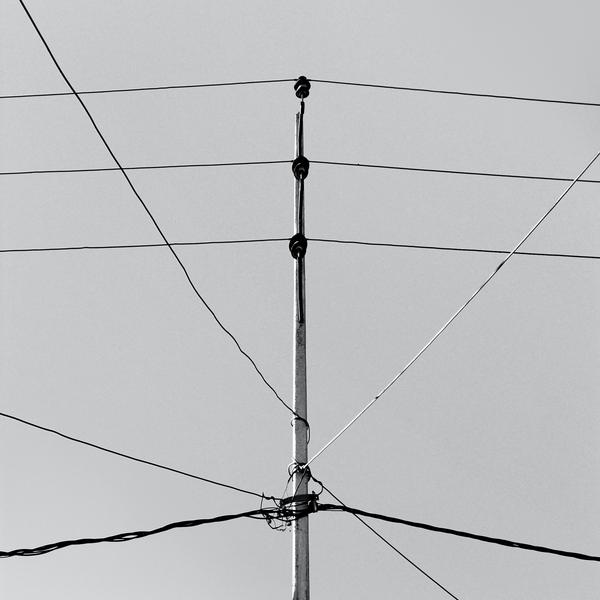utility_pole: (265, 62, 333, 308)
